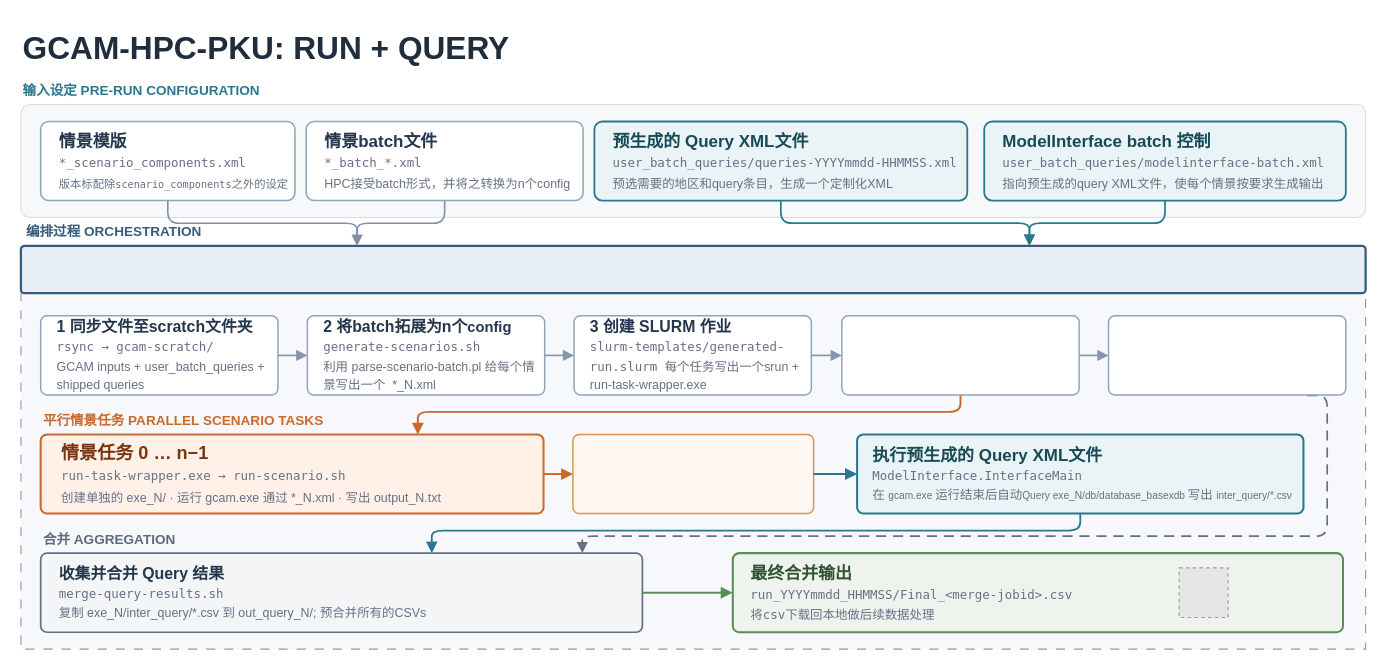
Image size: 1385x669. Some labels were removed from this diagram. Grey dashed boxes stand in for pictures. Here are the shapes that lost their labels. From the top down, the centre of each, then its label:
At [692,269]: "run-pipeline.sh 创造运行环境 · 同步inputs和query XML · 拓展情景 · 创建 SLURM 作业 · 提交超算运行 · 合并输出".
At [960,355]: "4 提交超算运行 sbatch generated-run.slurm 在每个节点上提交一个情景，实现多情景平行运算".
At [1226,355]: "5 按计划合并输出 sbatch --dependency=afterok 在所有情景结束后提交merge-query-results.sh运行".
At [693,473]: "模型运行 gcam.exe -C*_N.xml 产出 XMLDB 在 exe_N/db/database_basexdb".
